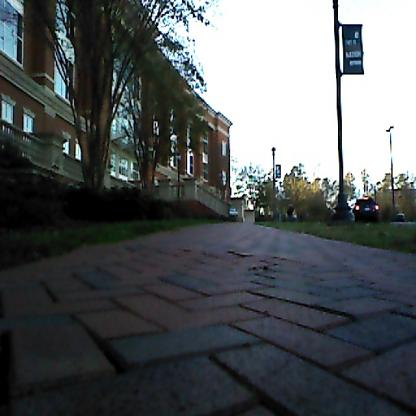Edge: (1, 213, 196, 295)
Sidewalk: (0, 222, 416, 416)
